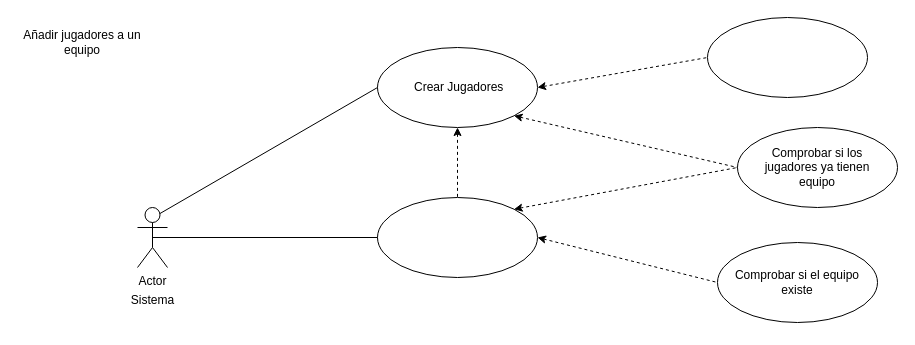
This 915x345 diagram has some shape labels left out. Each missing label, with the centre of its shape:
Comprobar si el jugador existe: point (787, 57)
Creo equipo: point (457, 237)
